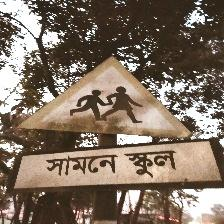School-in-front: (7, 54, 223, 197)
